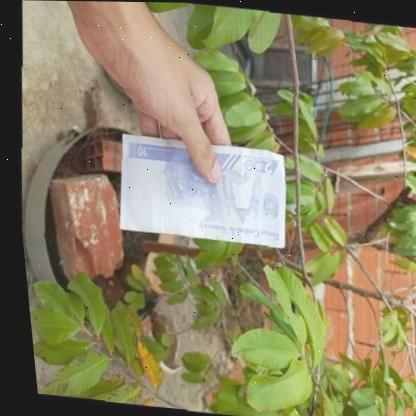ten-back-vef: (108, 133, 289, 248)
